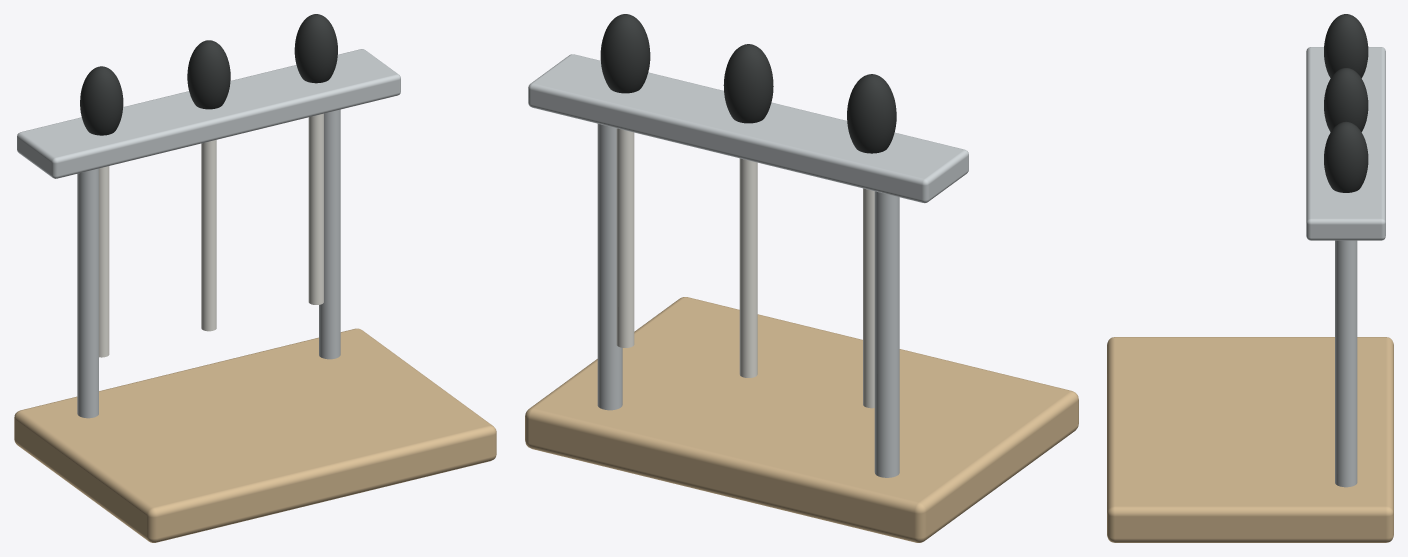
The model's file is candlemaking-and-soap-workshop-dispensing-pipette-stan-3a93c4e0__30671.glb.
3 views of the same model, side by side, from view 1: azimuth 30°, elevation 25°; view 2: azimuth 150°, elevation 25°; view 3: azimuth 270°, elevation 25° (orthographic). The views are drawn at different scales.
Parts seen in each view (by area): view 1: dispensing-pipette-stand; view 2: dispensing-pipette-stand; view 3: dispensing-pipette-stand.
Boxes of the visible parts, x1,y1,x2,y2 form: dispensing-pipette-stand: (14,14,496,542); dispensing-pipette-stand: (525,14,1078,542); dispensing-pipette-stand: (1107,14,1393,542).
Size of the model in its own units: 0.26 by 0.2692 by 0.18.
